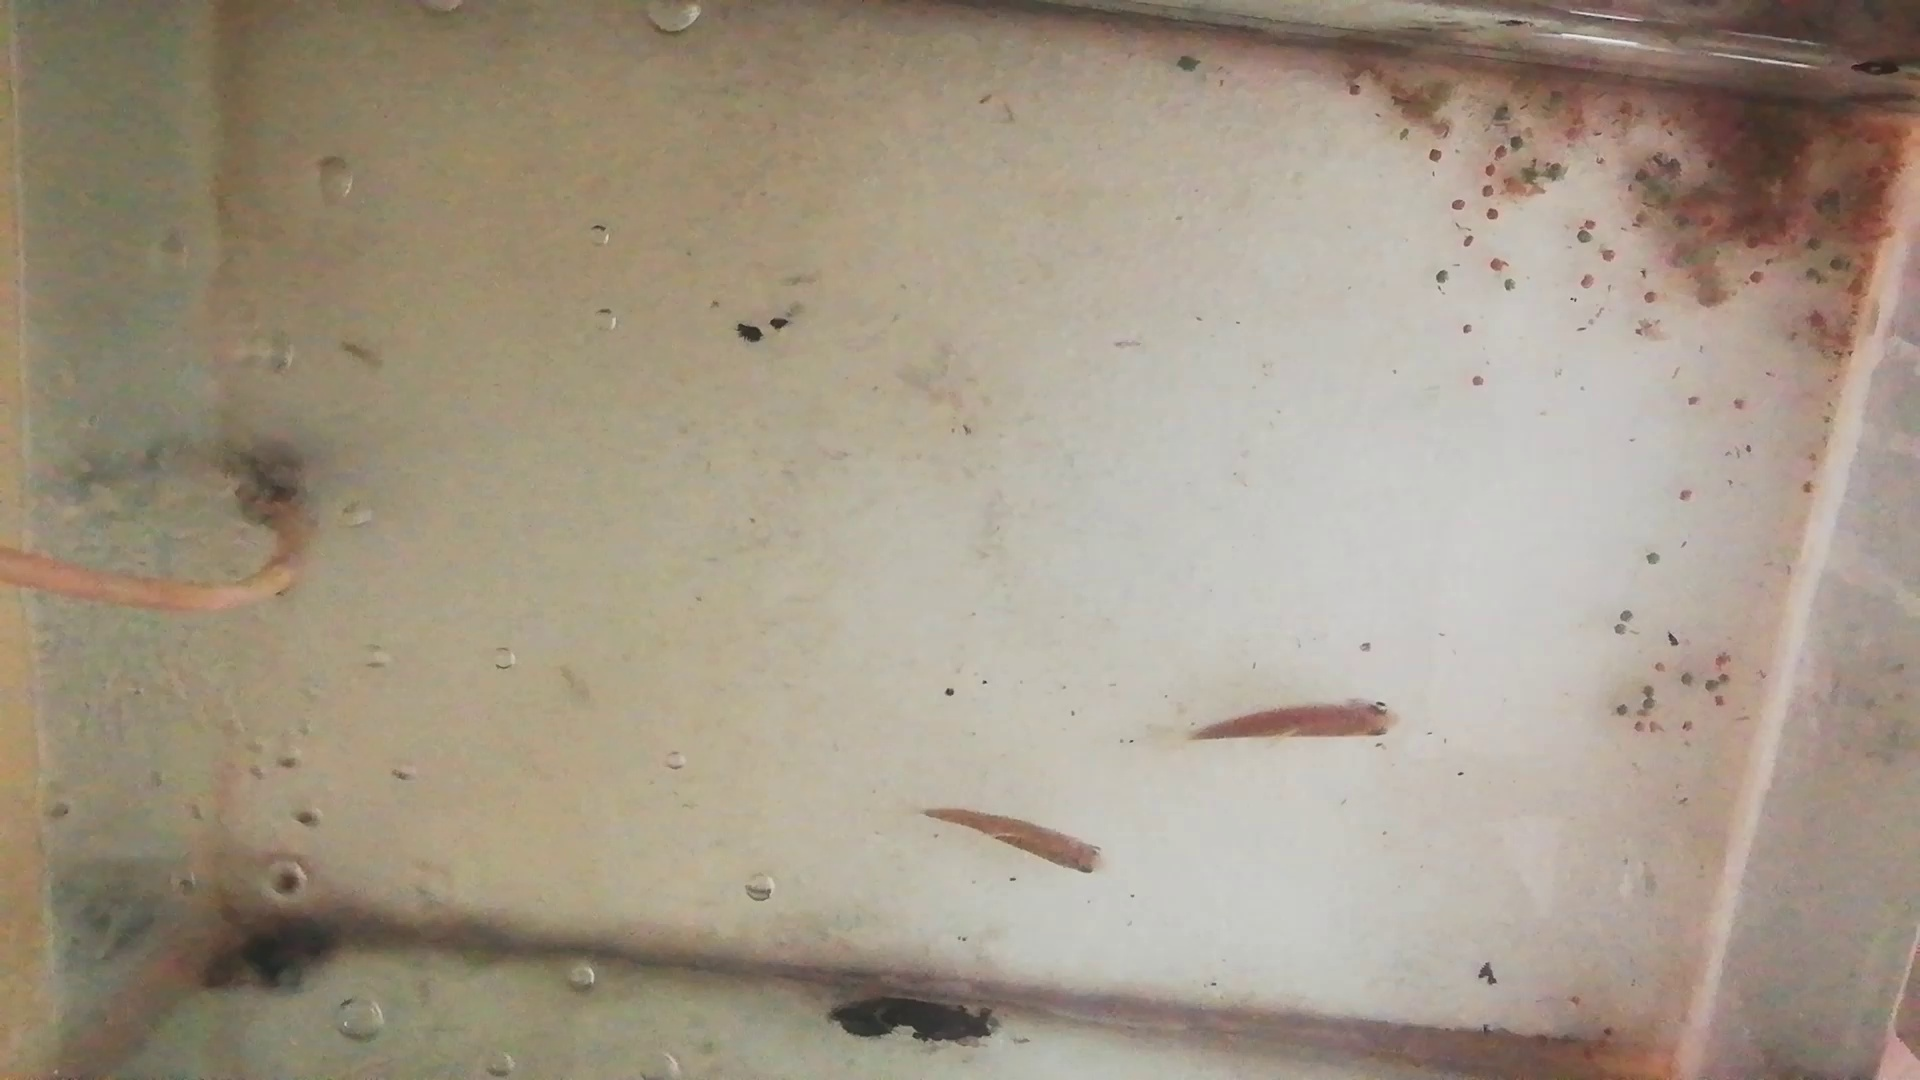fish: (924, 803, 1113, 880), (1189, 699, 1411, 745)
